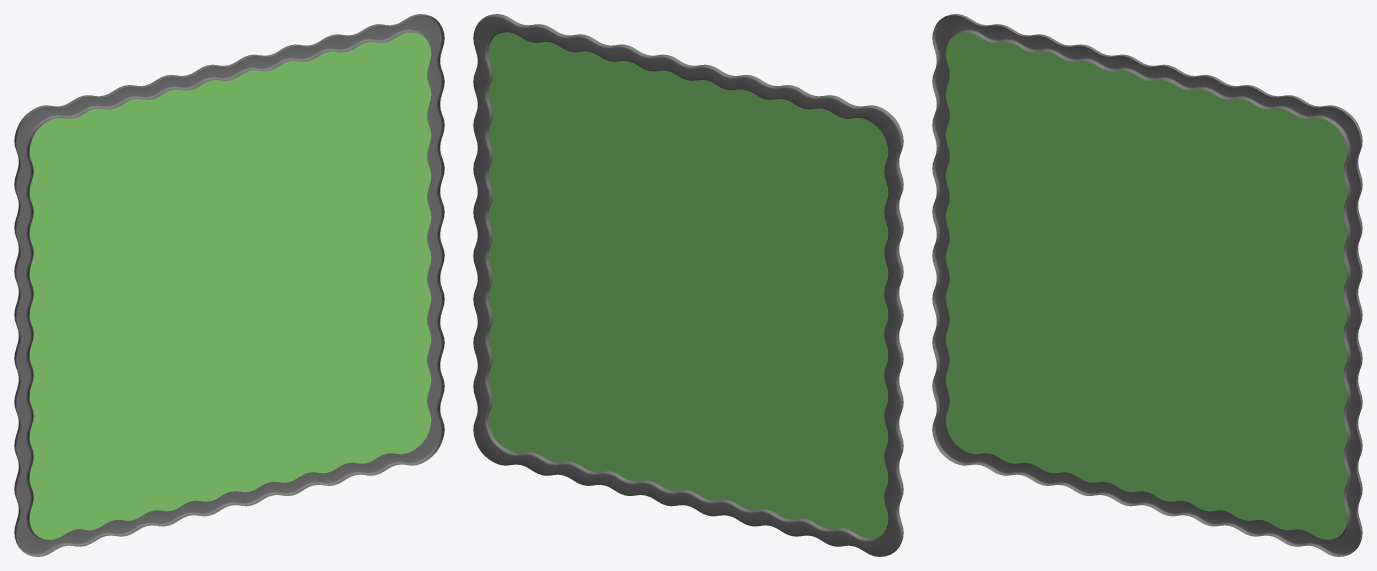
Rendered from Poster_Holder.fbx.
The picture shows the model from 3 angles, left to right: view 1: azimuth 30°, elevation 25°; view 2: azimuth 150°, elevation 25°; view 3: azimuth 330°, elevation 25°; orthographic projection.
Parts seen in each view (by area): view 1: Poster_Holder; view 2: Poster_Holder; view 3: Poster_Holder.
Boxes of the visible parts, x1=… form: Poster_Holder: x1=14, y1=14, x2=444, y2=556; Poster_Holder: x1=473, y1=14, x2=903, y2=556; Poster_Holder: x1=932, y1=14, x2=1362, y2=556.
Size of the model in its own units: 59.59 by 59.68 by 0.5781.
